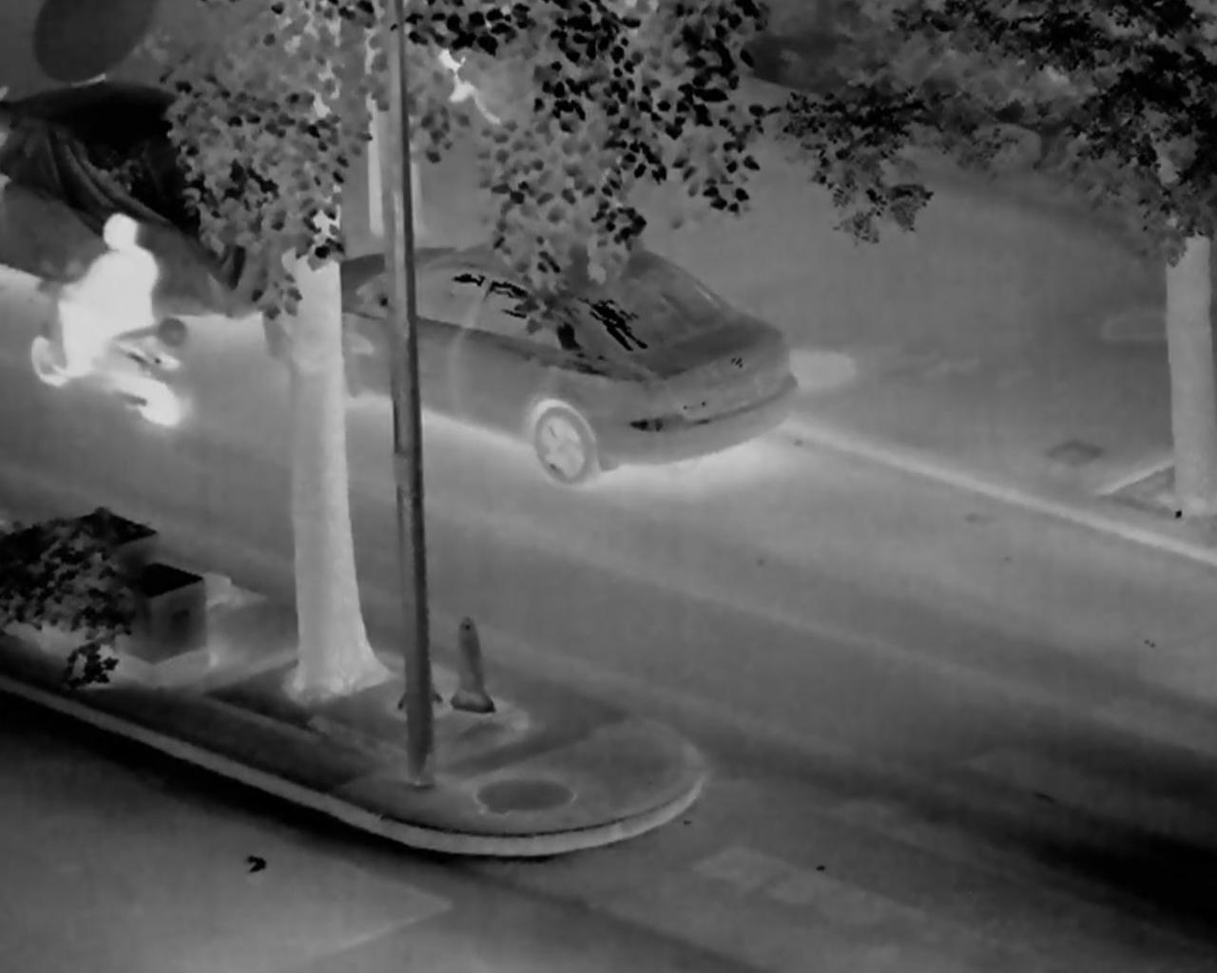person: (49, 213, 158, 385)
